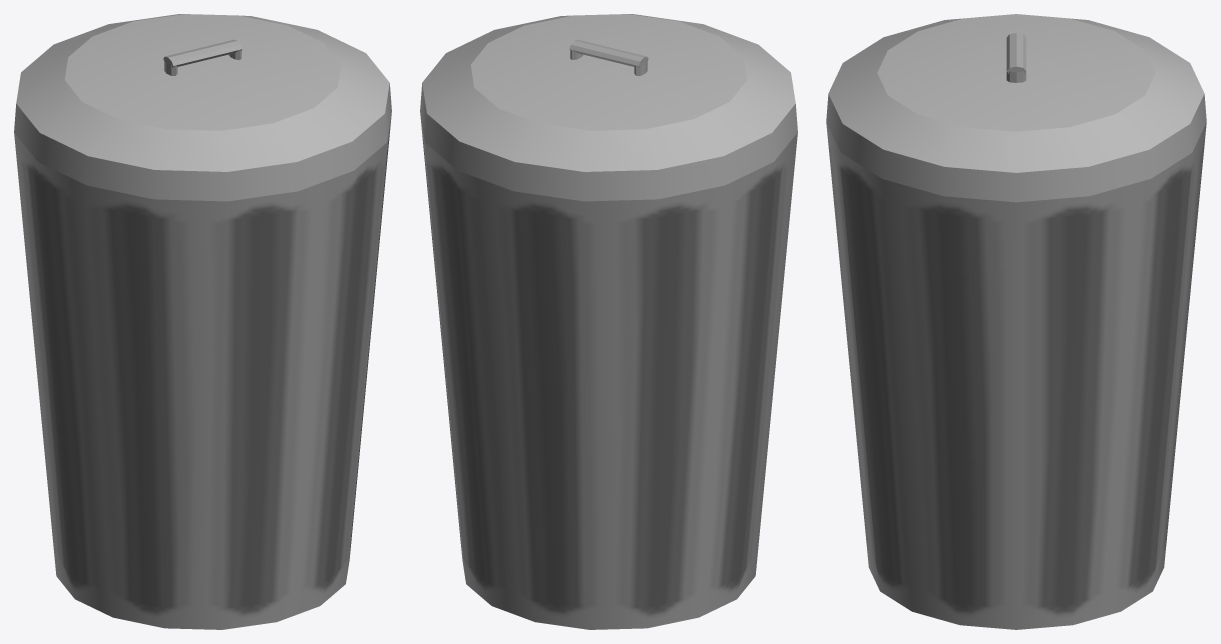
The model's file is garbagecan.fbx.
The picture shows the model from 3 angles, left to right: view 1: azimuth 30°, elevation 25°; view 2: azimuth 150°, elevation 25°; view 3: azimuth 270°, elevation 25°; orthographic projection.
Parts seen in each view (by area): view 1: pCylinder1, pCylinder2; view 2: pCylinder1, pCylinder2; view 3: pCylinder1, pCylinder2.
Boxes of the visible parts, x1=… form: pCylinder1: x1=14, y1=14, x2=391, y2=629; pCylinder2: x1=163, y1=39, x2=242, y2=67; pCylinder1: x1=420, y1=14, x2=797, y2=629; pCylinder2: x1=569, y1=39, x2=648, y2=67; pCylinder1: x1=826, y1=14, x2=1206, y2=629; pCylinder2: x1=1006, y1=33, x2=1026, y2=73.
Size of the model in its own units: 7.73 by 11.61 by 7.73.
Materials: 3 (1 with a texture image).
